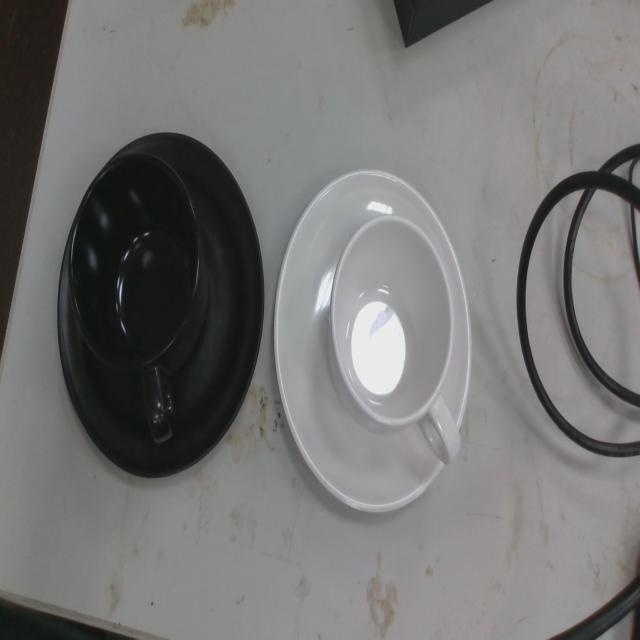black: (53, 126, 267, 482)
white: (270, 162, 475, 520)
